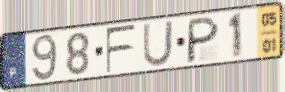1: (227, 10, 246, 62)
8: (64, 31, 91, 77)
9: (29, 33, 59, 82)
F: (104, 23, 138, 76)
P: (184, 14, 222, 65)
U: (142, 19, 175, 69)
